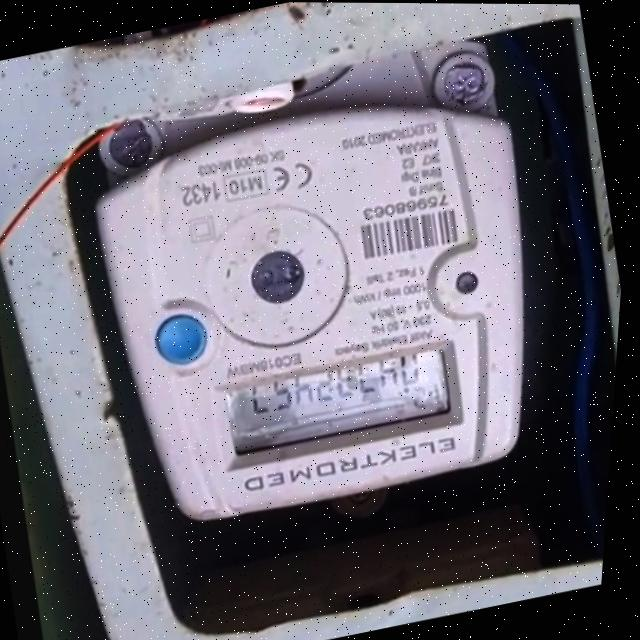electric-meter-detection: (97, 41, 526, 518)
